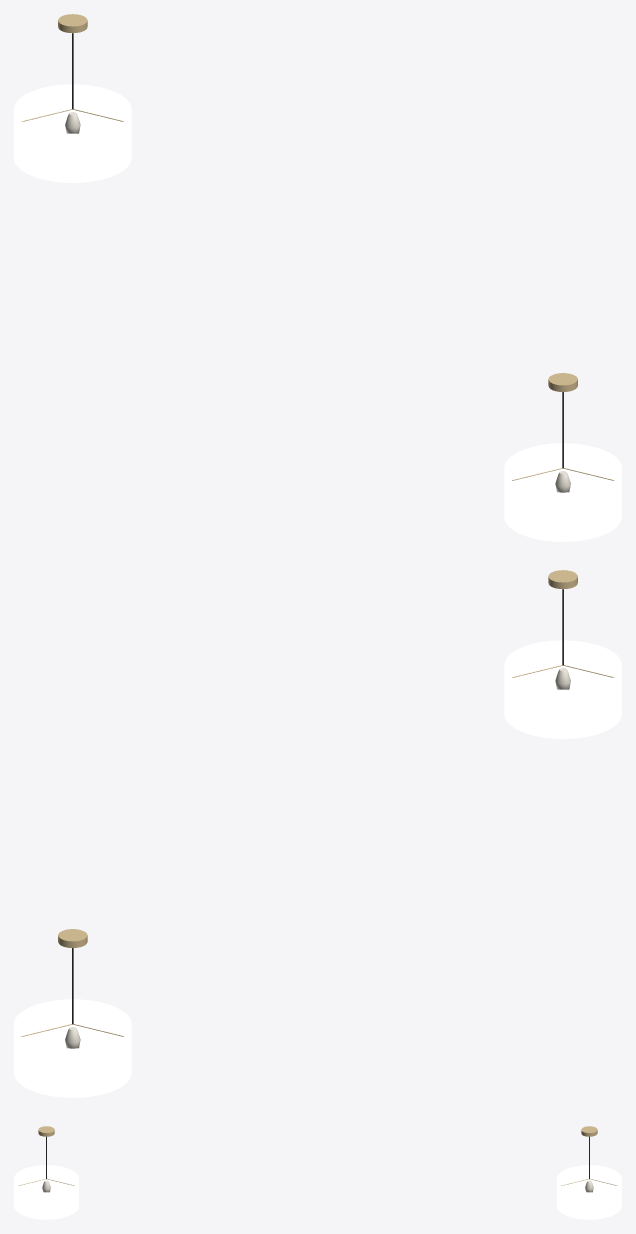
Rendered from SaekiHome_Lamps.fbx.
3 views of the same model, one above another, from view 1: azimuth 30°, elevation 25°; view 2: azimuth 150°, elevation 25°; view 3: azimuth 270°, elevation 25° (orthographic). The views are drawn at different scales.
Visible parts, largest first — view 1: SaekiHome_Lamps; view 2: SaekiHome_Lamps; view 3: SaekiHome_Lamps.
Boxes of the visible parts, x1=… form: SaekiHome_Lamps: x1=14, y1=14, x2=621, y2=541; SaekiHome_Lamps: x1=14, y1=570, x2=621, y2=1097; SaekiHome_Lamps: x1=14, y1=1126, x2=621, y2=1219.
Size of the model in its own units: 0.48 by 0.62 by 4.48.
